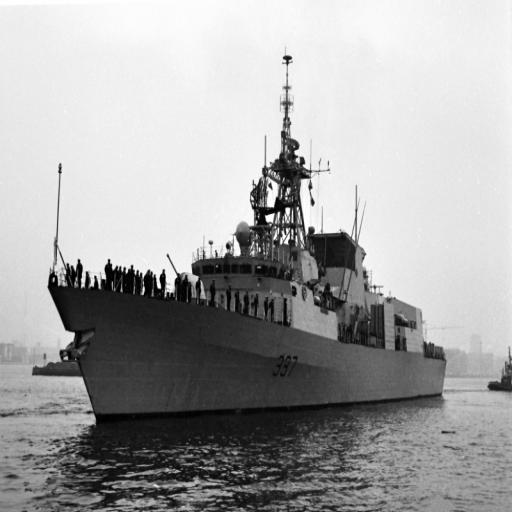Fragata: (49, 38, 449, 438)
